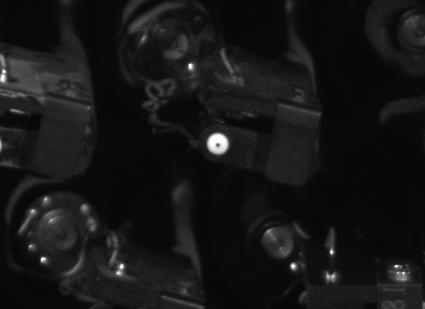fiber: (201, 127, 236, 161)
